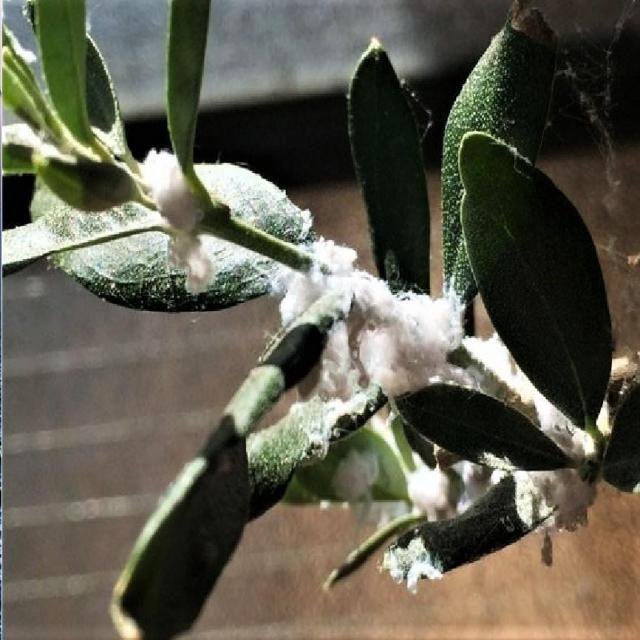Psyllid: (279, 238, 599, 591), (138, 151, 214, 297)
